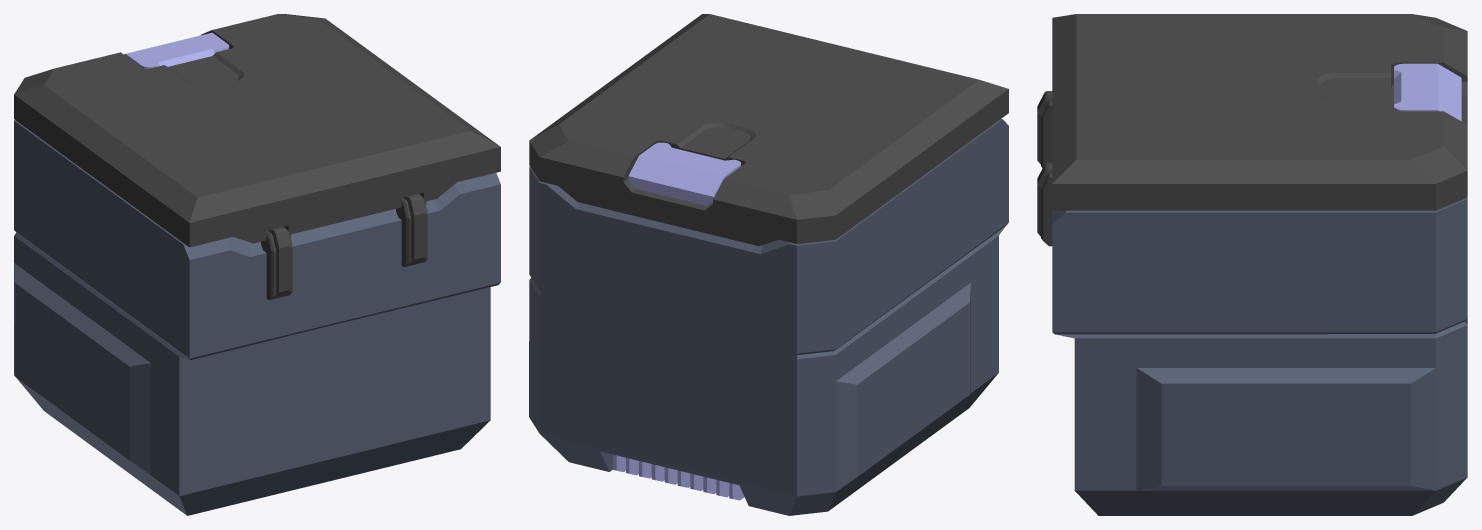
File: Single Crate.glb
3 views of the same model, side by side, from view 1: azimuth 30°, elevation 25°; view 2: azimuth 150°, elevation 25°; view 3: azimuth 270°, elevation 25° (orthographic). The views are drawn at different scales.
Parts seen in each view (by area): view 1: Single Crate; view 2: Single Crate; view 3: Single Crate.
Part boxes in pixels (x1=…): Single Crate: x1=14, y1=14, x2=500, y2=515; Single Crate: x1=529, y1=14, x2=1008, y2=515; Single Crate: x1=1037, y1=14, x2=1467, y2=515.
Bounding box in the file's own units: 1.07 × 1 × 1.09.
